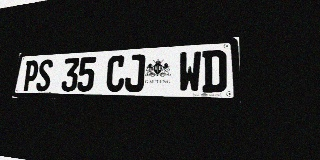3: (61, 58, 80, 92)
5: (76, 57, 96, 92)
C: (105, 55, 126, 92)
D: (202, 49, 227, 93)
J: (124, 54, 145, 92)
P: (22, 60, 39, 91)
S: (35, 59, 53, 91)
W: (178, 51, 201, 92)
